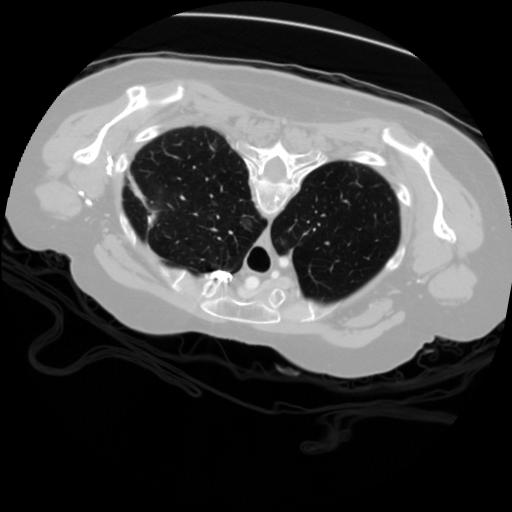nodule: (234, 214, 253, 233)
